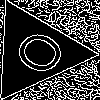O: (10, 26, 78, 84)
